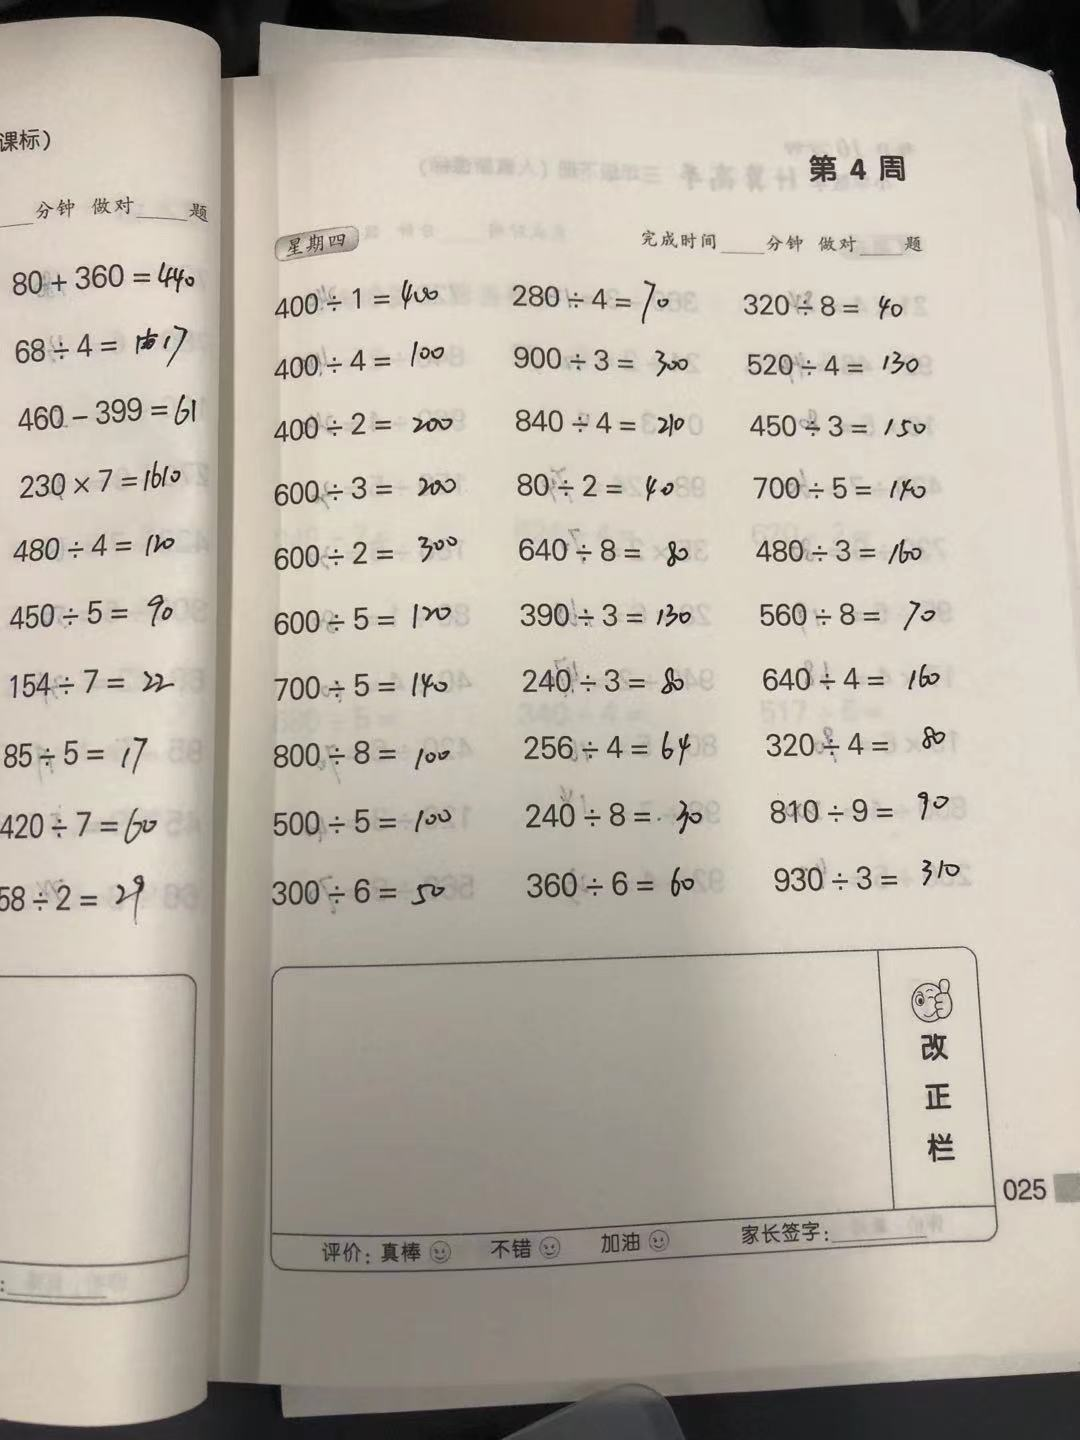equation: (248, 595, 490, 644), (750, 783, 994, 830), (261, 867, 476, 920), (496, 392, 710, 444), (751, 858, 979, 907), (254, 664, 486, 712), (253, 471, 481, 516), (753, 721, 974, 768), (496, 276, 702, 324), (514, 590, 719, 638), (262, 535, 486, 579), (521, 795, 736, 839), (261, 801, 486, 842), (262, 342, 471, 387), (256, 736, 486, 776), (754, 468, 947, 515), (748, 598, 953, 641), (511, 536, 712, 579), (264, 408, 471, 450), (736, 532, 937, 575), (262, 279, 465, 321), (505, 341, 707, 382), (748, 664, 965, 701), (741, 407, 936, 447), (736, 347, 936, 384), (505, 467, 701, 505), (522, 865, 711, 904), (516, 667, 710, 704), (736, 288, 913, 324), (516, 732, 710, 764)
